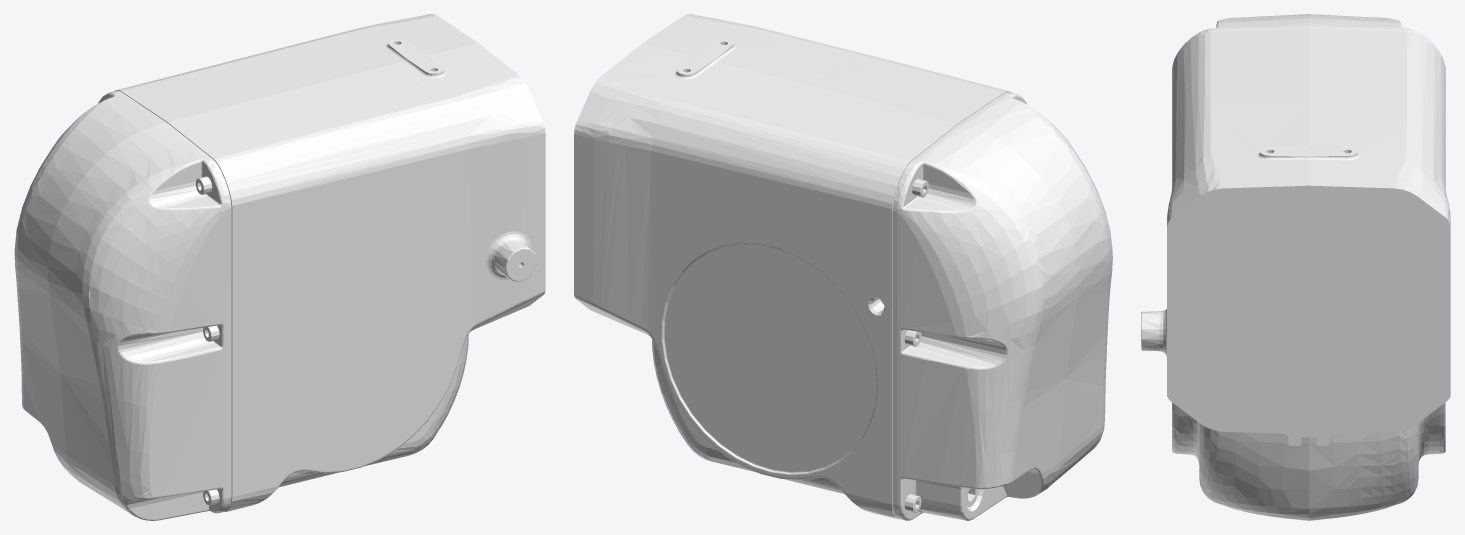
The picture shows the model from 3 angles, left to right: view 1: azimuth 30°, elevation 25°; view 2: azimuth 150°, elevation 25°; view 3: azimuth 270°, elevation 25°; orthographic projection. The views are drawn at different scales.
Parts seen in each view (by area): view 1: link_3; view 2: link_3; view 3: link_3.
Part boxes in pixels (x1=…): link_3: x1=14, y1=14, x2=545, y2=520; link_3: x1=574, y1=14, x2=1112, y2=520; link_3: x1=1141, y1=14, x2=1450, y2=520.
Bounding box in the file's own units: 0.2036 × 0.12 × 0.162.
Materials: 1 (1 with a texture image).
